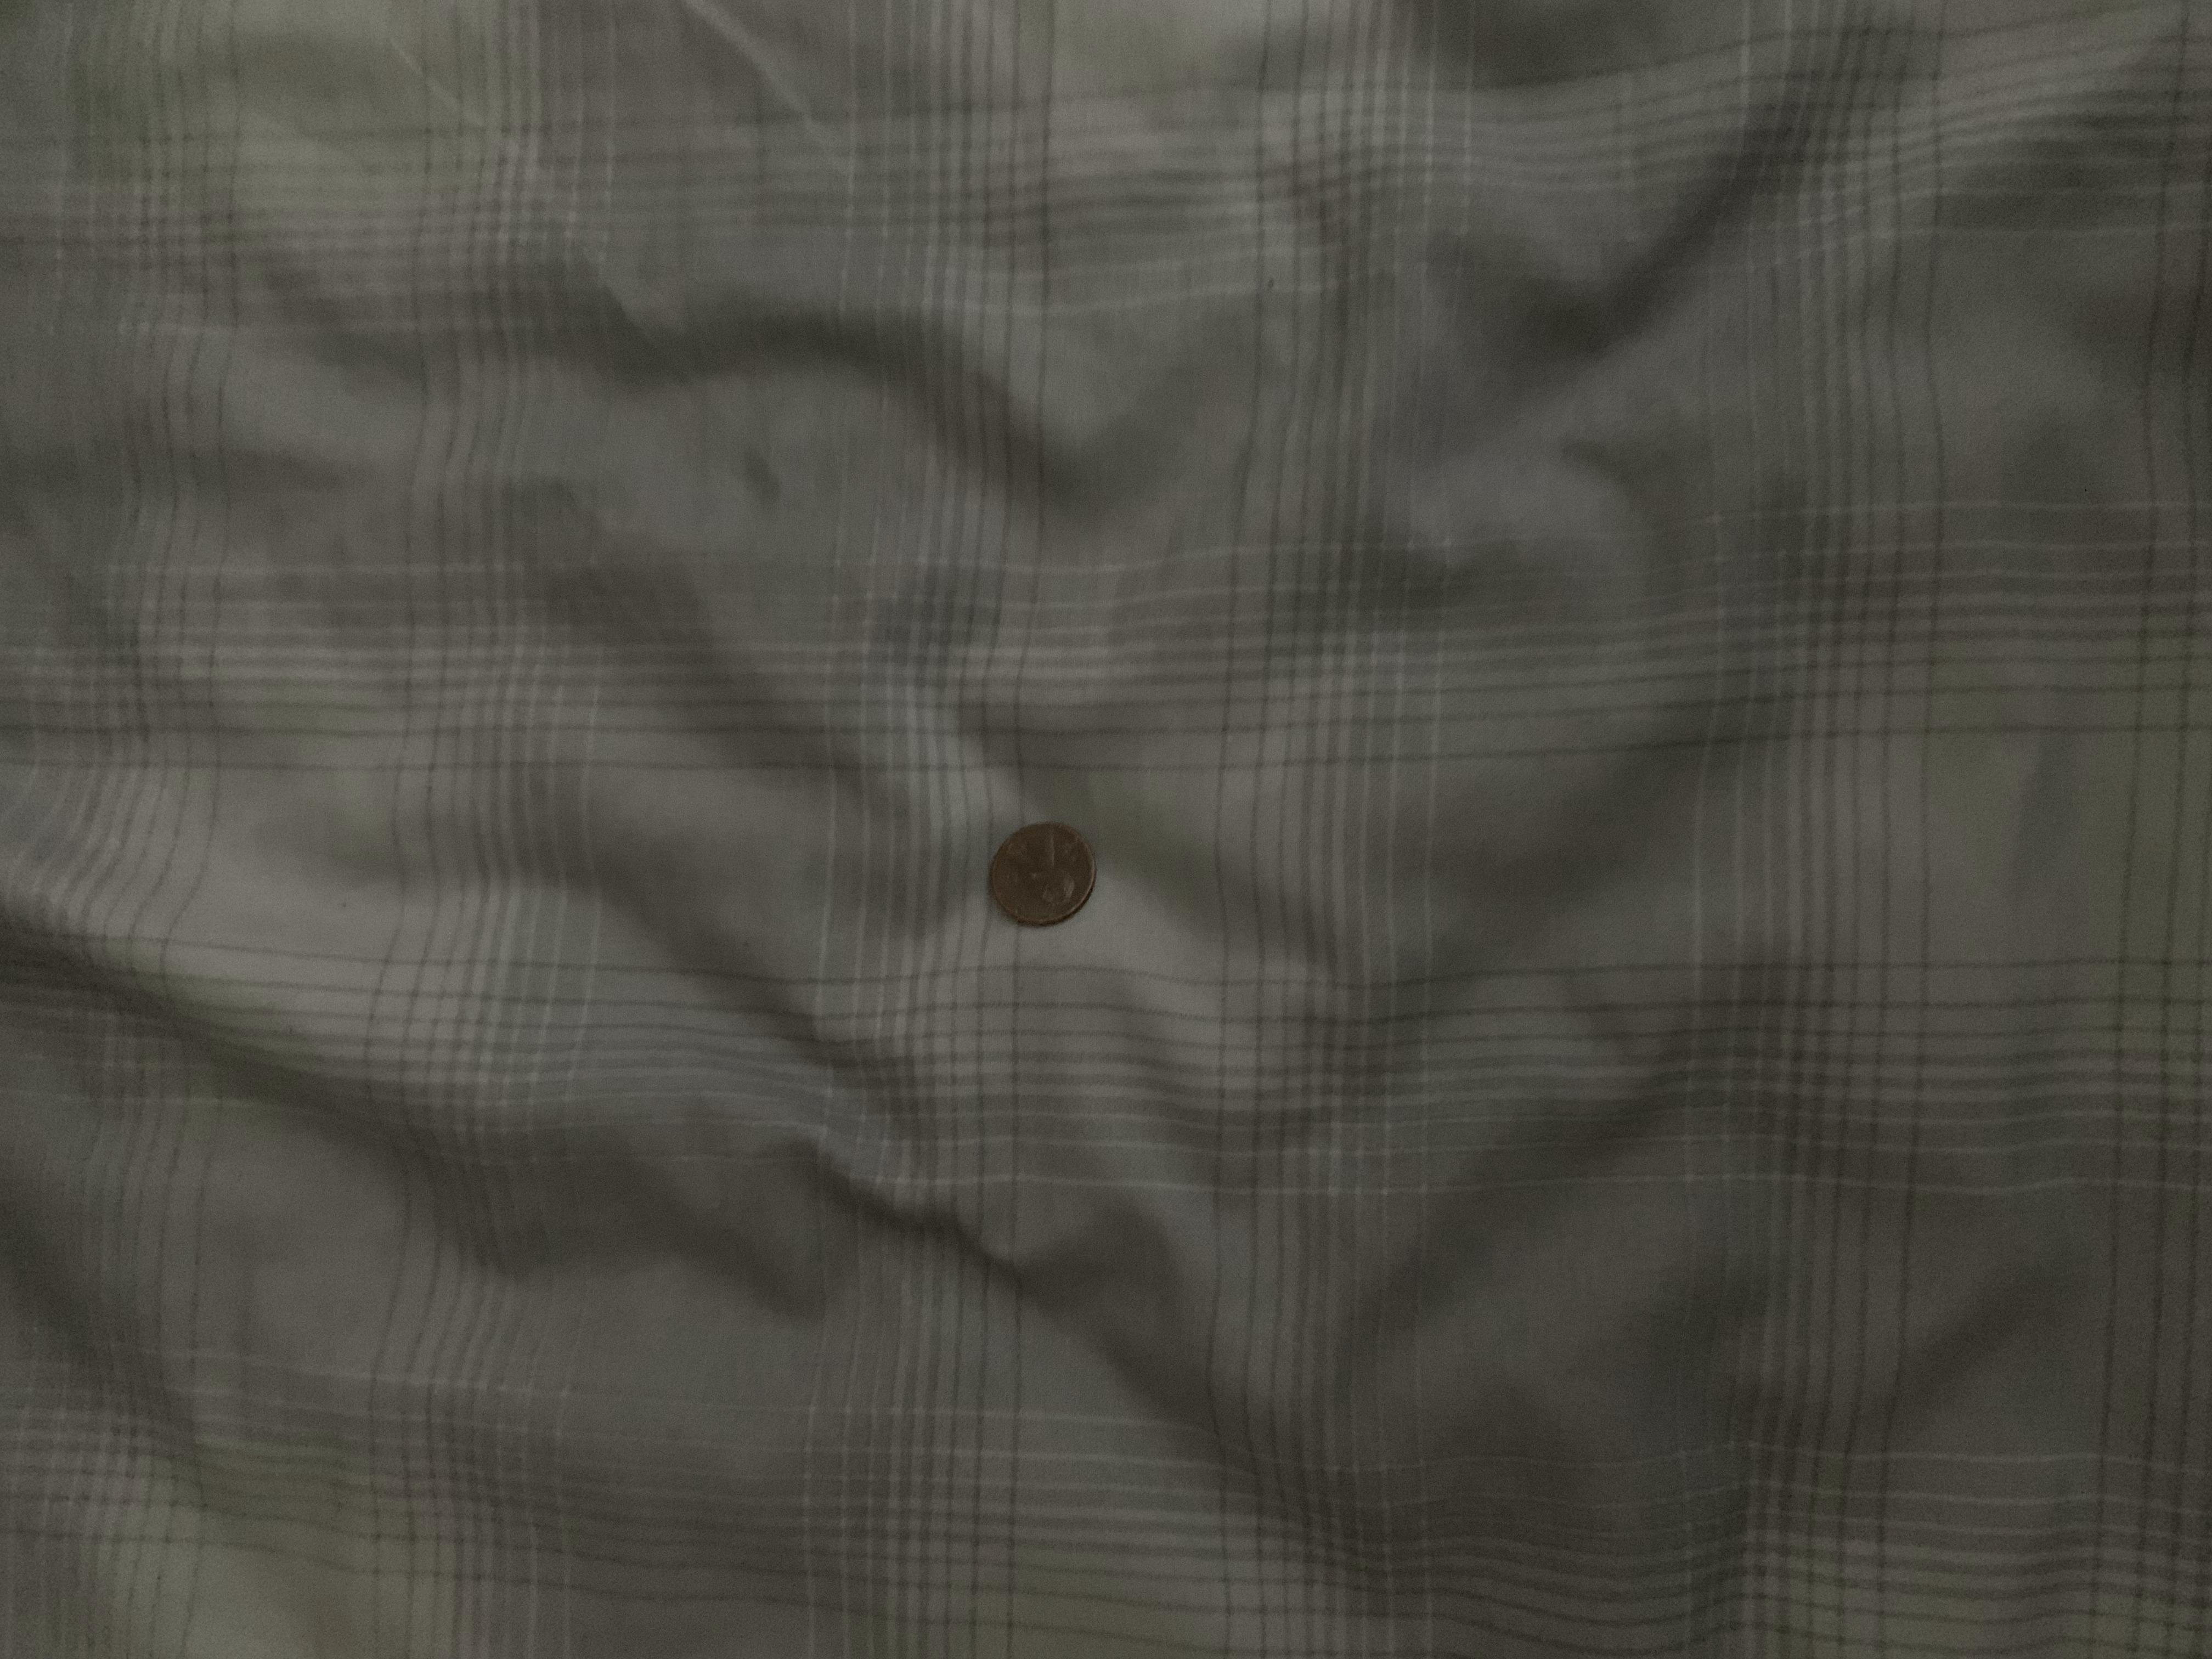Penny: (986, 817, 1101, 929)
